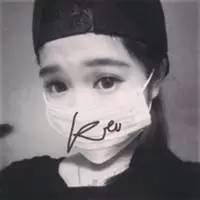face_mask: (41, 30, 141, 160)
